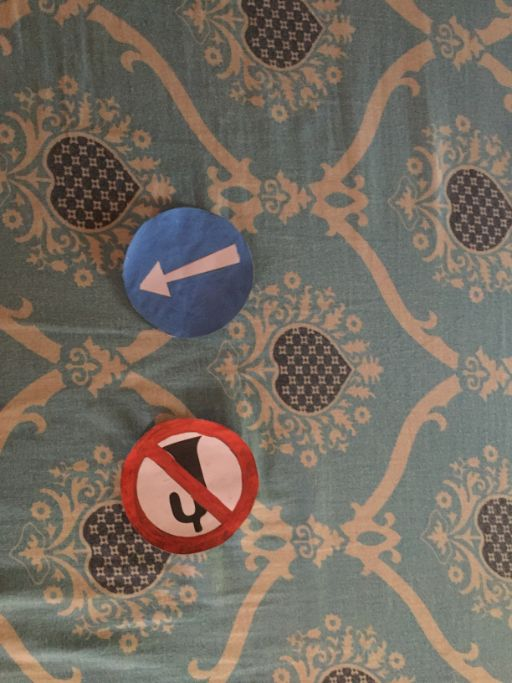keep-left: (119, 206, 258, 345)
no-horn: (119, 415, 259, 555)
